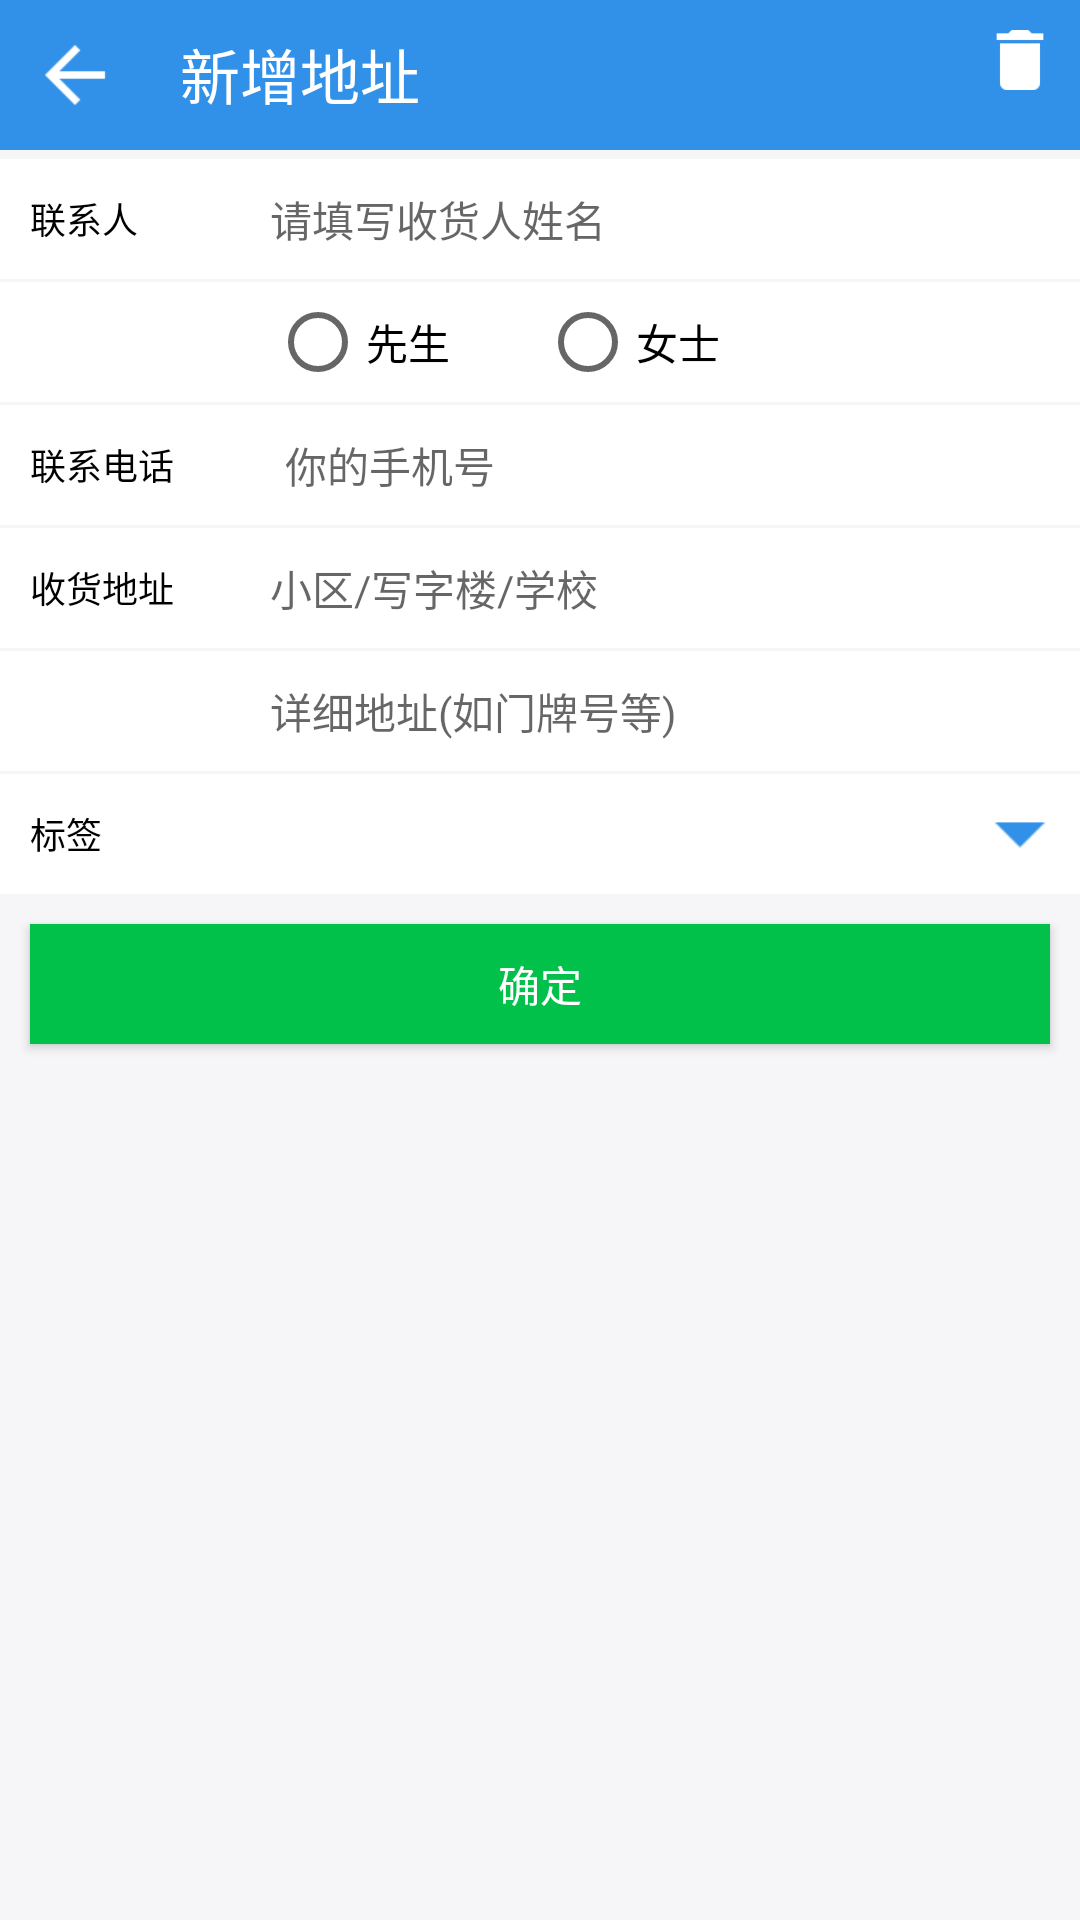

Icons on this 1080px x 1920px Android screen, each with the point to tap as [x,y]:
ab back: [75,75]
address delete: [1020,60]
address down: [1020,835]
